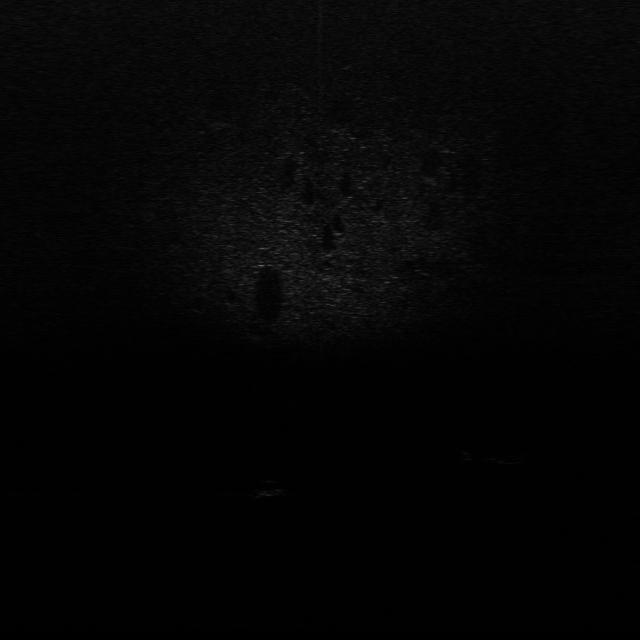ball: (250, 474, 290, 502)
human body: (460, 444, 554, 470)
